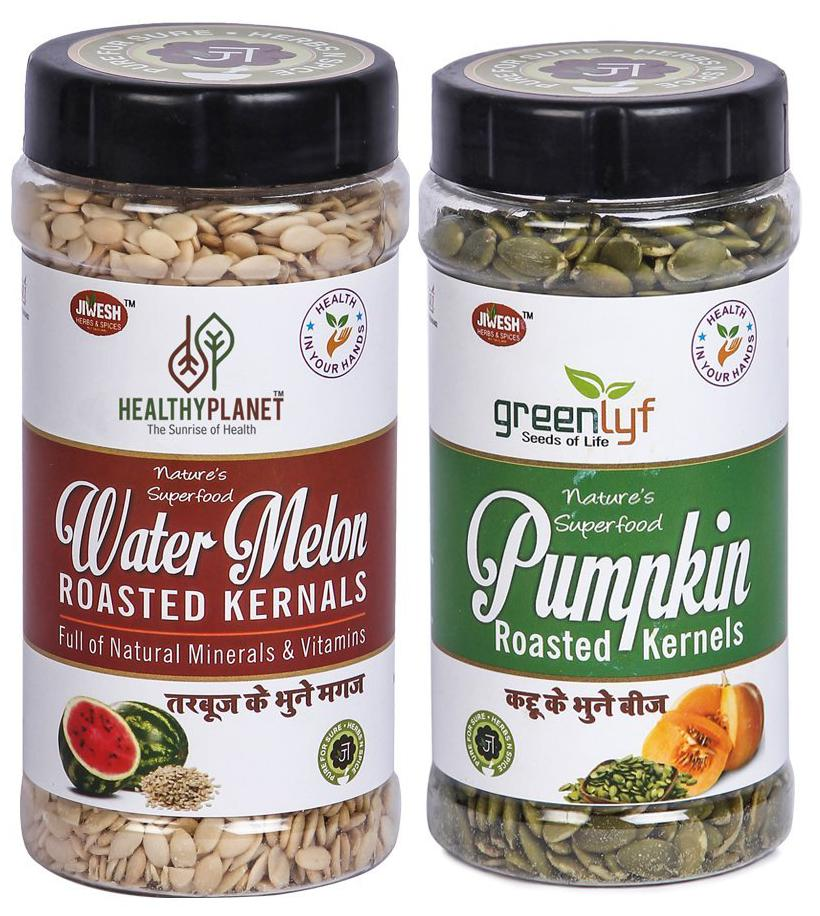JAR: (7, 14, 413, 906), (410, 34, 808, 893)
